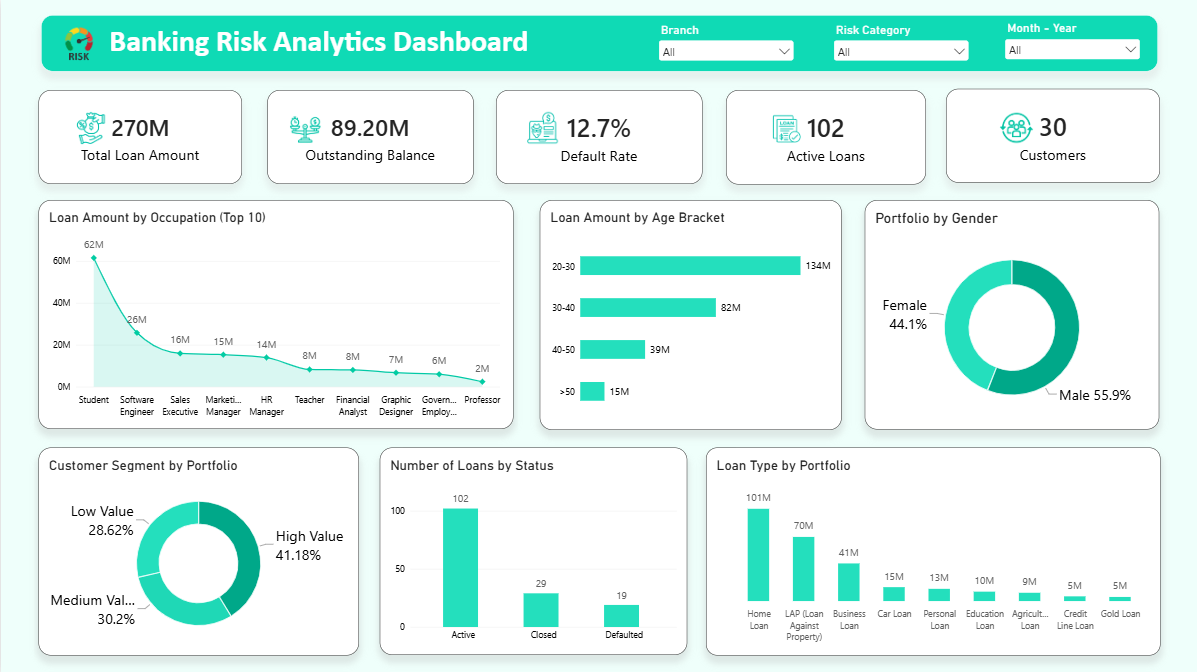

Layout of this report page (visuals, bound fields, positions):
{"tool":"powerbi","page":{"name":"Portfolio Overview","canvas":[1920,1080],"ordinal":0},"visuals":[{"type":"lineStackedColumnComboChart","title":"Loan Type by Portfolio","fields":{"Category":["PROD.LoanType"],"Y":["Measure.Total Loan Portfolio"]},"box":[1127.5,716.2,727.5,332.5],"z":0},{"type":"donutChart","title":"Customer Segment by Portfolio","fields":{"Category":["CUST.CustomerSegment"],"Y":["Measure.Total Loan Portfolio"]},"box":[60,716.2,512.5,332.5],"z":1000},{"type":"pieChart","title":"Portfolio by Gender","fields":{"Category":["CUST.Gender"],"Y":["Measure.Total Loan Portfolio"]},"box":[1382.9,319.2,471.4,367.1],"z":2000},{"type":"clusteredBarChart","title":"Loan Amount by Age Bracket","fields":{"Category":["CUST.Age Bucket"],"Y":["Measure.Total Loan Portfolio"]},"box":[861.7,320,483.3,368.3],"z":3000},{"type":"clusteredColumnChart","title":"Number of Loans by Status","fields":{"Category":["Loan_Fact.LoanStatus"],"Y":["CountNonNull(Loan_Fact.ApplicationID)"]},"box":[606,716,492,332],"z":4000},{"type":"textbox","title":"Banking ","box":[64,24.8,1787.5,90],"z":5000},{"type":"lineChart","title":"Loan Amount by Occupation (Top 10)","fields":{"Category":["CUST.Occupation"],"Y":["Measure.Total Loan Portfolio"]},"box":[60,320,760,366.7],"z":6000},{"type":"slicer","fields":{"Values":["PROD.RiskCategory"]},"box":[1327.5,35,225,67.5],"z":7000},{"type":"slicer","fields":{"Values":["Date.Month Year"]},"box":[1602.5,34.5,225,70],"z":8000},{"type":"slicer","fields":{"Values":["Loan_Fact.Branch"]},"box":[1047.5,35,225,66.2],"z":9000},{"type":"image","box":[72,26,106,88],"z":10000},{"type":"card","fields":{"Values":["Measure.Total Loan Portfolio"]},"box":[60,143.3,325.6,150],"z":11000},{"type":"card","fields":{"Values":["Measure.Outstanding Balance"]},"box":[425.6,143.3,330,150],"z":12000},{"type":"card","fields":{"Values":["Measure.Default Rate"]},"box":[792.2,143.3,330,150],"z":13000},{"type":"card","fields":{"Values":["Measure.Active Loans"]},"box":[1160,143.3,320,151.1],"z":14000},{"type":"card","fields":{"Values":["Measure.Customers"]},"box":[1512.5,142.8,342.5,150],"z":15000},{"type":"image","box":[107.8,173.3,71.1,57.8],"z":16000},{"type":"image","box":[457.5,175,57.5,60],"z":17000},{"type":"image","box":[835,175,60,57.5],"z":18000},{"type":"image","box":[1596.2,176.2,57.5,57.5],"z":19000},{"type":"image","box":[1227.5,175,57.5,60],"z":20000}]}

Visuals, with their boxes in screenshot pixels (x1, y1, x2, y2), scaled from the page's 1920x1080 canvas onto the 1197x672 screenshot:
"Loan Type by Portfolio" lineStackedColumnComboChart: x1=703, y1=446, x2=1156, y2=653
"Customer Segment by Portfolio" donutChart: x1=37, y1=446, x2=357, y2=653
"Portfolio by Gender" pieChart: x1=862, y1=199, x2=1156, y2=427
"Loan Amount by Age Bracket" clusteredBarChart: x1=537, y1=199, x2=839, y2=428
"Number of Loans by Status" clusteredColumnChart: x1=378, y1=446, x2=685, y2=652
"Banking " textbox: x1=40, y1=15, x2=1154, y2=71
"Loan Amount by Occupation (Top 10)" lineChart: x1=37, y1=199, x2=511, y2=427
slicer - PROD.RiskCategory: x1=828, y1=22, x2=968, y2=64
slicer - Date.Month Year: x1=999, y1=21, x2=1139, y2=65
slicer - Loan_Fact.Branch: x1=653, y1=22, x2=793, y2=63
image: x1=45, y1=16, x2=111, y2=71
card - Measure.Total Loan Portfolio: x1=37, y1=89, x2=240, y2=182
card - Measure.Outstanding Balance: x1=265, y1=89, x2=471, y2=182
card - Measure.Default Rate: x1=494, y1=89, x2=700, y2=182
card - Measure.Active Loans: x1=723, y1=89, x2=923, y2=183
card - Measure.Customers: x1=943, y1=89, x2=1156, y2=182
image: x1=67, y1=108, x2=112, y2=144
image: x1=285, y1=109, x2=321, y2=146
image: x1=521, y1=109, x2=558, y2=145
image: x1=995, y1=110, x2=1031, y2=145
image: x1=765, y1=109, x2=801, y2=146
